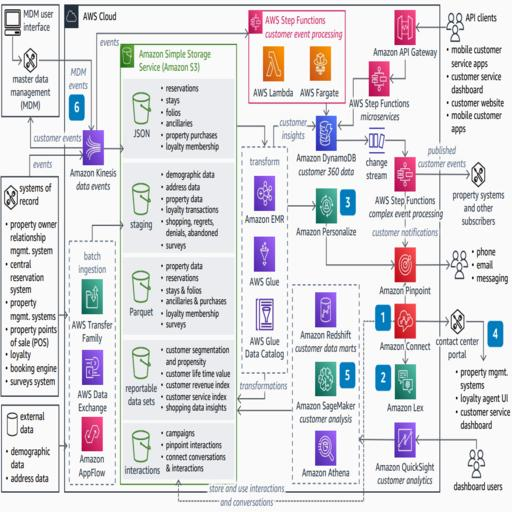actor: (0, 176, 59, 395), (443, 289, 511, 453), (443, 8, 511, 137), (0, 2, 59, 119), (443, 152, 511, 236), (0, 404, 59, 492), (443, 229, 511, 298), (443, 432, 511, 496)
api_gateway: (245, 236, 249, 430), (178, 492, 324, 496), (92, 331, 217, 335), (359, 399, 363, 494), (324, 492, 398, 496), (219, 331, 283, 335), (234, 406, 294, 410), (234, 394, 294, 398), (324, 224, 328, 268), (362, 262, 394, 266), (336, 138, 364, 142), (336, 76, 364, 80), (416, 264, 442, 268), (416, 320, 442, 324), (416, 172, 442, 176), (416, 24, 442, 28), (438, 438, 464, 442), (276, 204, 302, 208), (44, 144, 66, 148), (44, 163, 66, 167), (44, 444, 66, 448), (95, 146, 115, 150), (43, 58, 61, 62), (176, 478, 180, 496), (403, 94, 407, 112), (324, 158, 328, 176), (324, 94, 328, 109), (403, 343, 407, 358), (403, 403, 407, 418)
compute: (392, 10, 416, 43)
data_flow: (393, 242, 417, 275), (393, 305, 417, 338), (252, 301, 276, 334), (80, 283, 104, 316), (80, 353, 104, 386), (80, 416, 104, 449), (252, 240, 276, 272)
database_storage: (247, 14, 348, 98), (368, 64, 392, 98), (252, 178, 276, 211), (314, 186, 338, 218), (393, 158, 417, 190), (393, 364, 417, 396), (314, 364, 338, 396)
network_security: (119, 42, 237, 485), (314, 116, 338, 150), (393, 424, 417, 457), (314, 294, 338, 326), (314, 432, 338, 464), (80, 130, 104, 162)
trust_boundary: (62, 6, 440, 496), (292, 284, 361, 482), (70, 241, 116, 484), (241, 144, 287, 372)
